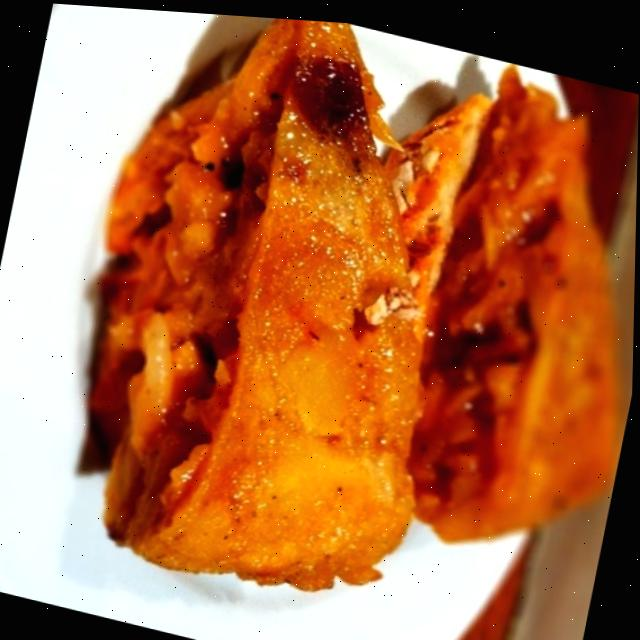面包点心: (17, 1, 640, 640)
